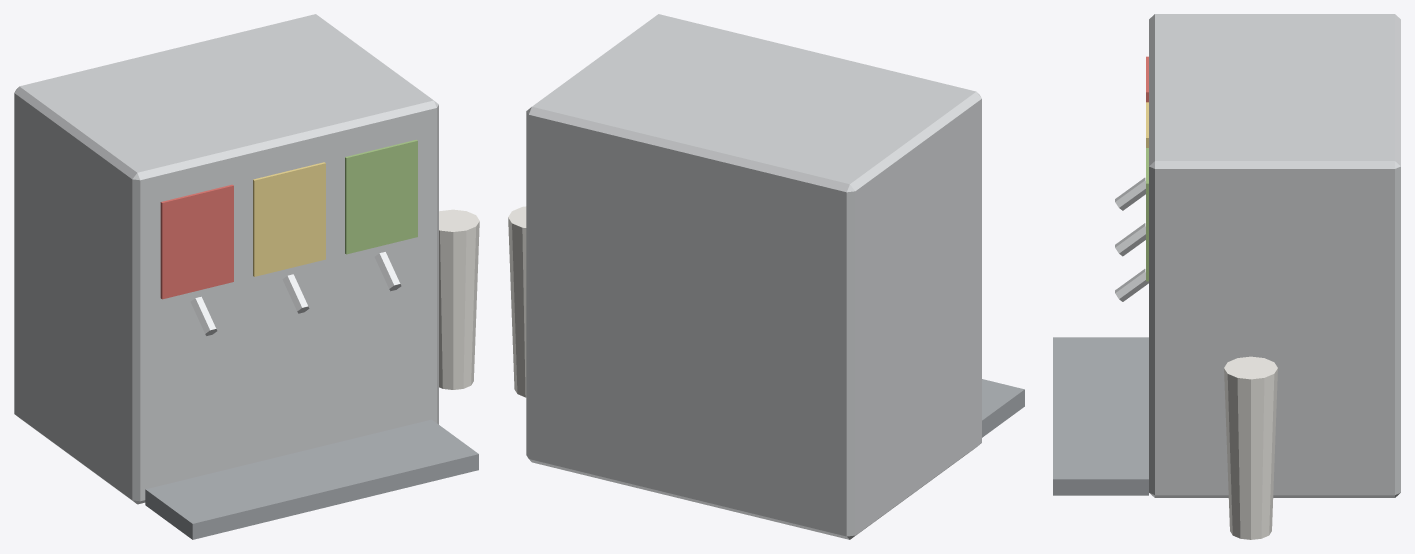
The model's file is soda.glb.
The picture shows the model from 3 angles, left to right: view 1: azimuth 30°, elevation 25°; view 2: azimuth 150°, elevation 25°; view 3: azimuth 270°, elevation 25°; orthographic projection. The views are drawn at different scales.
Visible parts, largest first — view 1: soda_metal, soda_steel, soda_flag_r, soda_food_y, soda_food_g, soda_paper, soda_chrome; view 2: soda_metal, soda_paper, soda_steel; view 3: soda_metal, soda_steel, soda_paper, soda_chrome.
Boxes of the visible parts, x1,y1,x2,y2 form: soda_metal: [14, 14, 438, 504]; soda_steel: [145, 419, 478, 539]; soda_flag_r: [160, 184, 233, 299]; soda_food_y: [253, 162, 325, 276]; soda_food_g: [345, 139, 417, 254]; soda_paper: [439, 209, 479, 389]; soda_chrome: [190, 252, 401, 335]; soda_metal: [526, 14, 981, 539]; soda_paper: [508, 206, 526, 397]; soda_steel: [982, 379, 1024, 437]; soda_metal: [1149, 14, 1400, 497]; soda_steel: [1053, 337, 1148, 495]; soda_paper: [1224, 356, 1277, 539]; soda_chrome: [1115, 177, 1148, 301].
Size of the model in its own units: 0.765 by 0.62 by 0.58.
